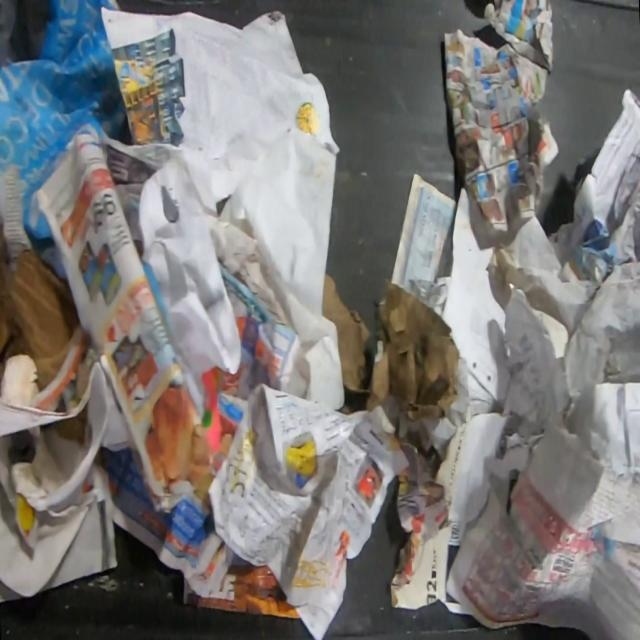cardboard: (322, 273, 460, 421), (0, 214, 79, 404)
